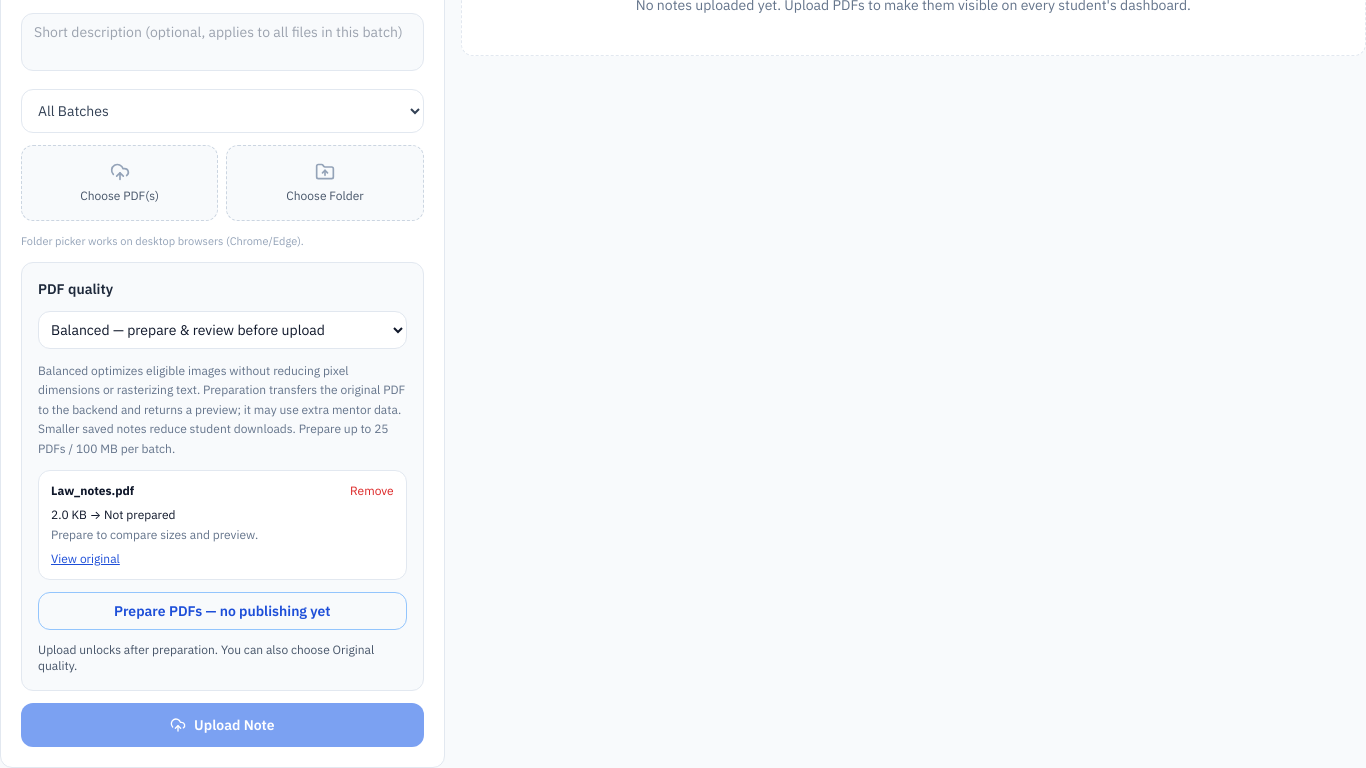
Test: balanced upload uses reviewed compressed bytes and preserves routing metadata
Earlier steps of the test are not shown.
(page scrolled)
Click the button "Prepare PDFs — no publishing yet" at (222, 611), box 38,592 -> 407,630
(page scrolled)
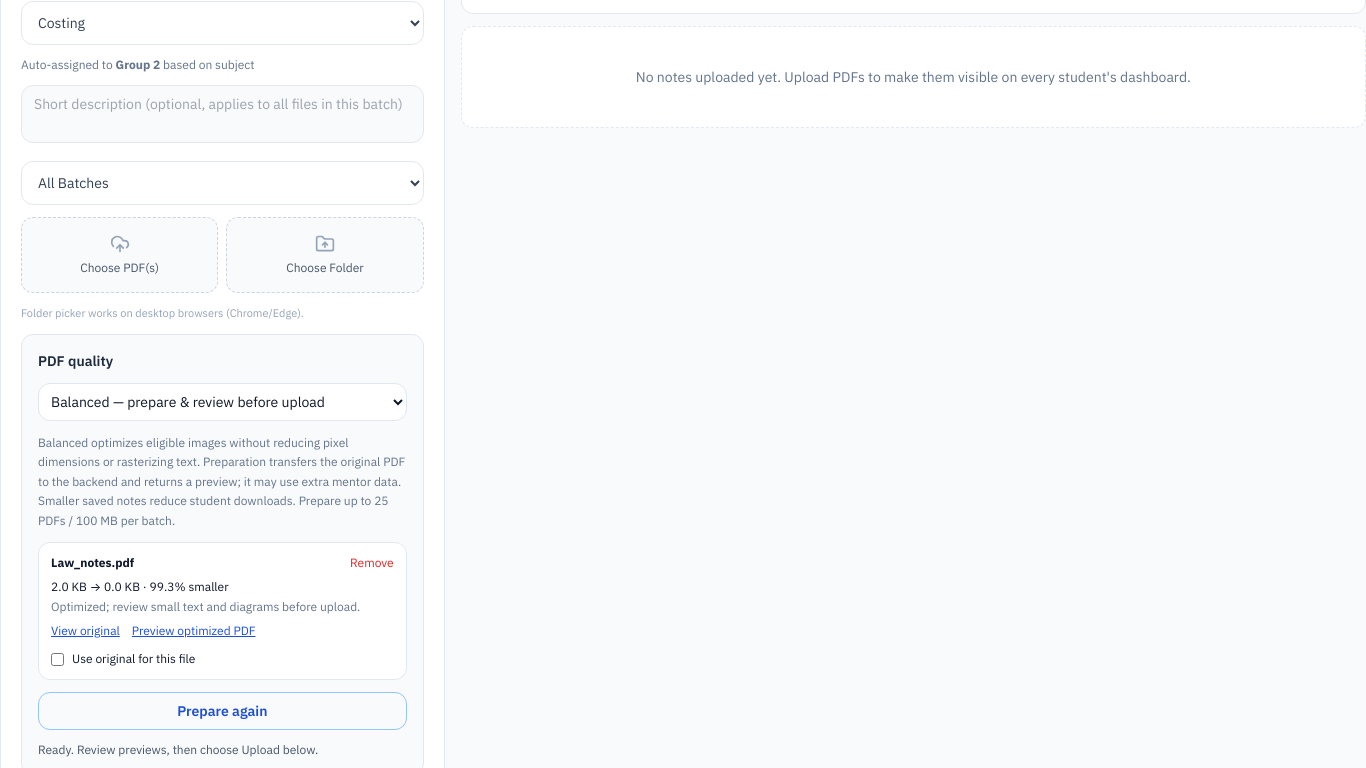
Submit the form
(page scrolled)
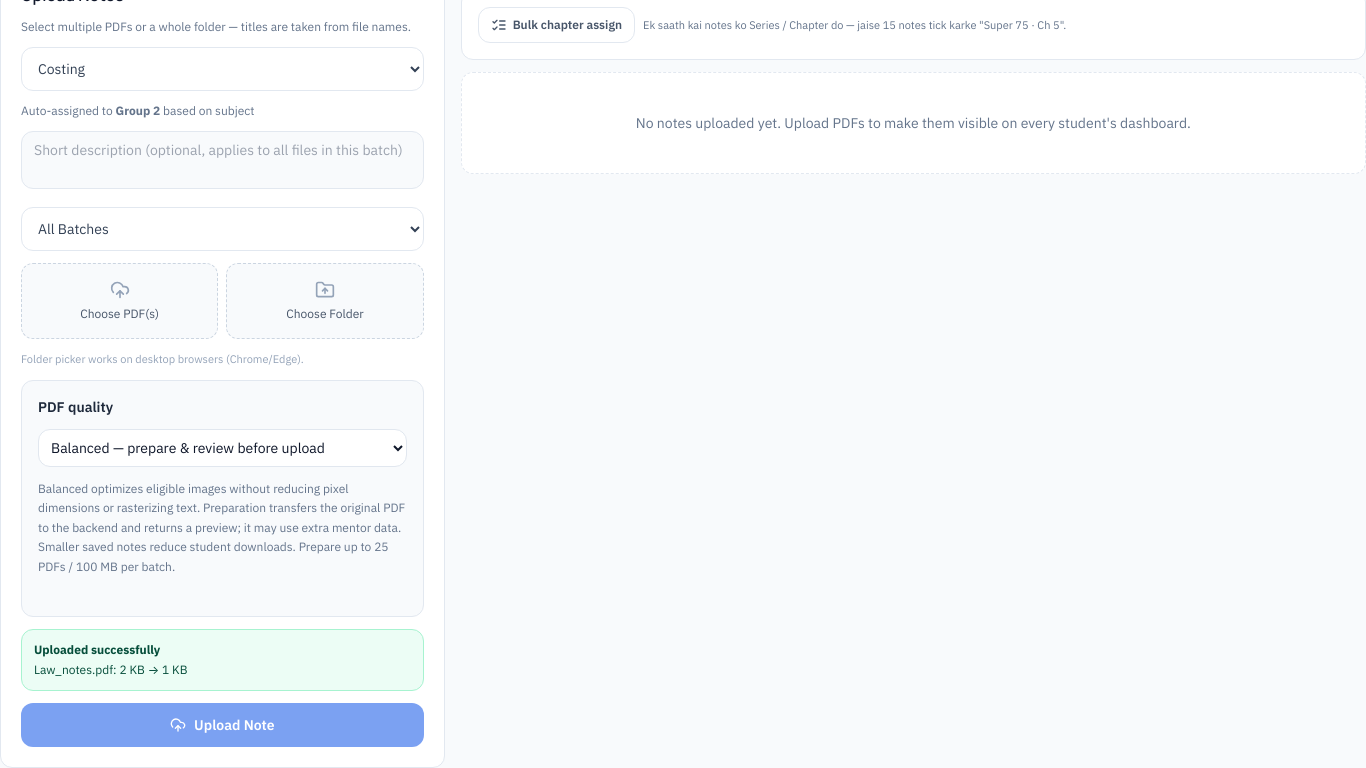
Check: the text "Uploaded successfully" is shown, box 34,642 -> 160,657
